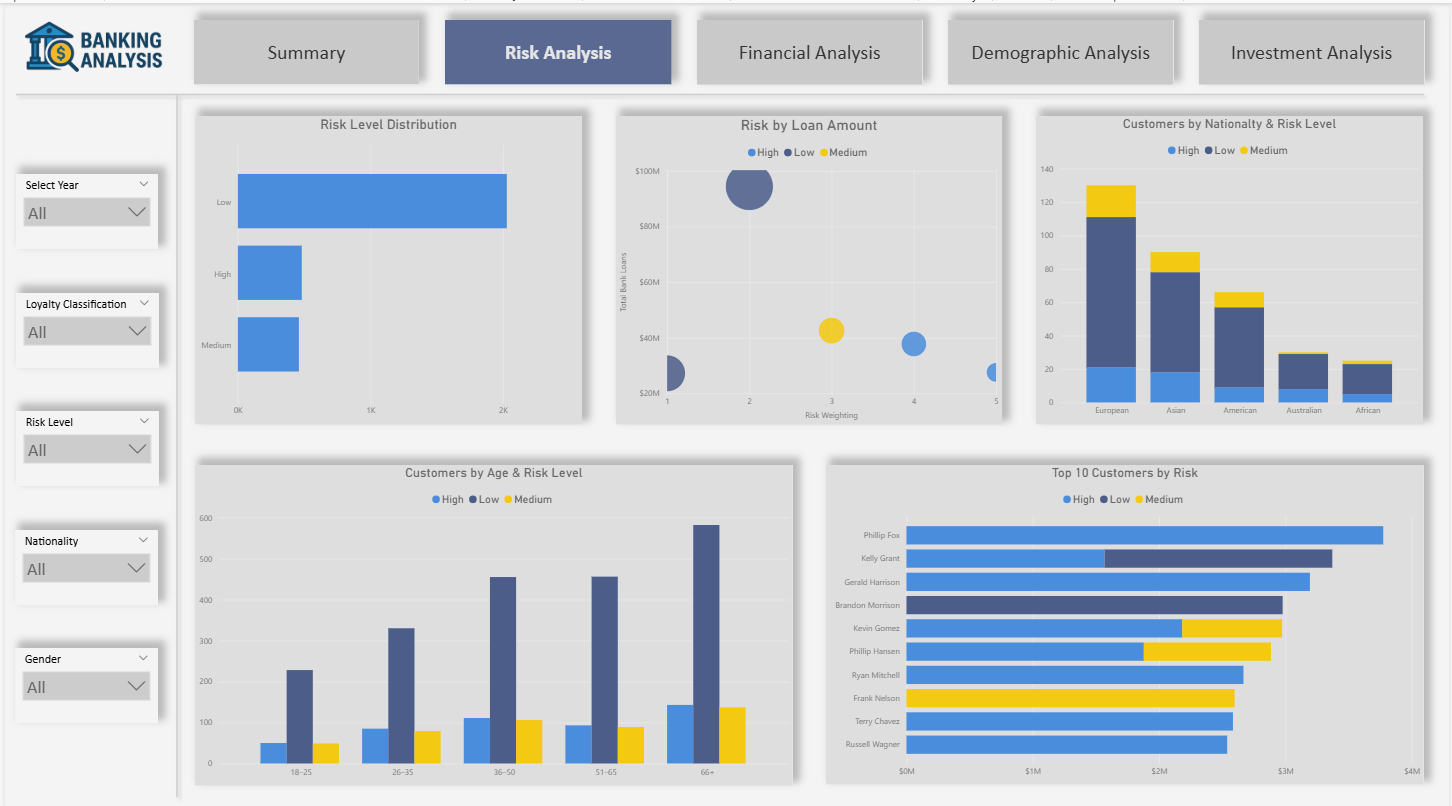

The page's visual inventory and layout, read from the dashboard file:
{"tool":"powerbi","page":{"name":"Risk Analysis","canvas":[1920,1080],"ordinal":1},"visuals":[{"type":"barChart","title":"Risk Level Distribution","fields":{"Category":["Dim_Risk.Risk Level"],"Y":["MeasuresTable.Total Customers"]},"box":[252.4,150.3,515,410],"z":0},{"type":"shape","title":"Vertical_Line","box":[206.7,111.1,45.2,953.6],"z":1000},{"type":"slicer","title":"Year_Slicer","fields":{"Values":["Dim_Year.Year Joined"]},"box":[15.2,227.7,189,100],"z":2000},{"type":"slicer","title":"Loyalty_Slicer","fields":{"Values":["Dim_Loyalty.Loyalty Classification"]},"box":[14.7,385.3,189.6,100],"z":3000},{"type":"slicer","title":"Risk_Slicer","fields":{"Values":["Dim_Risk.Risk Level"]},"box":[14.1,542.9,189.6,100],"z":4000},{"type":"slicer","title":"Nationalty_Slicer","fields":{"Values":["Dim_Nationality.Nationality"]},"box":[13.6,700.5,189.6,100],"z":5000},{"type":"slicer","title":"Gender_Slicer","fields":{"Values":["Dim_Gender.GenderId"]},"box":[13,858.1,189.6,100],"z":6000},{"type":"actionButton","title":"Financial_ Inactive","box":[920.2,23,299.8,86],"z":8000},{"type":"actionButton","title":"Demographic_Inactive","box":[1254.1,23,299.8,86],"z":9000},{"type":"actionButton","title":"Investment_Inactive","box":[1588,23,299.8,86],"z":10000},{"type":"shape","title":"Horizontal_Line 01","box":[5.9,108.4,1891.3,25.3],"z":11000},{"type":"image","title":"Banking _Logo","box":[-0.8,0.7,240.7,125],"z":12000},{"type":"actionButton","title":"Risk_Active","box":[584.8,23,301.2,85.6],"z":13000},{"type":"actionButton","title":"Summary_Inactive","box":[251.2,23,299.5,85.6],"z":14000},{"type":"clusteredColumnChart","title":"Customers by Age & Risk Level","fields":{"Category":["Dim_Age.Age Group"],"Y":["MeasuresTable.Total Customers"],"Series":["Dim_Risk.Risk Level"]},"box":[252.4,614.2,795.1,426],"z":15000},{"type":"columnChart","title":"Customers by Nationalty & Risk Level","fields":{"Category":["Dim_Nationality.Nationality"],"Y":["MeasuresTable.Total Customers"],"Series":["Dim_Risk.Risk Level"]},"box":[1371.4,150.3,515,410],"z":16000},{"type":"scatterChart","title":"Risk by Loan Amount","fields":{"Y":["MeasuresTable.Total Bank Loans"],"Size":["CountNonNull(Banking.Bank Loans)"],"X":["Dim_Risk.Risk Weighting"],"Series":["Dim_Risk.Risk Level"]},"box":[812.6,150.3,513.6,410],"z":17000},{"type":"barChart","title":"Top 10 Customers by Risk","fields":{"Category":["Dim_Customer.Name"],"Y":["MeasuresTable.Total Bank Loans"],"Series":["Dim_Risk.Risk Level"]},"box":[1091.3,615.1,795.1,425],"z":18000}]}

Visuals, with their boxes in screenshot pixels (x1, y1, x2, y2), scaled from the page's 1920x1080 canvas onto the 1452x806 screenshot:
"Risk Level Distribution" barChart: [x1=191, y1=112, x2=580, y2=418]
"Vertical_Line" shape: [x1=156, y1=83, x2=190, y2=795]
"Year_Slicer" slicer: [x1=11, y1=170, x2=154, y2=245]
"Loyalty_Slicer" slicer: [x1=11, y1=288, x2=155, y2=362]
"Risk_Slicer" slicer: [x1=11, y1=405, x2=154, y2=480]
"Nationalty_Slicer" slicer: [x1=10, y1=523, x2=154, y2=597]
"Gender_Slicer" slicer: [x1=10, y1=640, x2=153, y2=715]
"Financial_ Inactive" actionButton: [x1=696, y1=17, x2=923, y2=81]
"Demographic_Inactive" actionButton: [x1=948, y1=17, x2=1175, y2=81]
"Investment_Inactive" actionButton: [x1=1201, y1=17, x2=1428, y2=81]
"Horizontal_Line 01" shape: [x1=4, y1=81, x2=1435, y2=100]
"Banking _Logo" image: [x1=0, y1=1, x2=181, y2=94]
"Risk_Active" actionButton: [x1=442, y1=17, x2=670, y2=81]
"Summary_Inactive" actionButton: [x1=190, y1=17, x2=416, y2=81]
"Customers by Age & Risk Level" clusteredColumnChart: [x1=191, y1=458, x2=792, y2=776]
"Customers by Nationalty & Risk Level" columnChart: [x1=1037, y1=112, x2=1427, y2=418]
"Risk by Loan Amount" scatterChart: [x1=615, y1=112, x2=1003, y2=418]
"Top 10 Customers by Risk" barChart: [x1=825, y1=459, x2=1427, y2=776]
